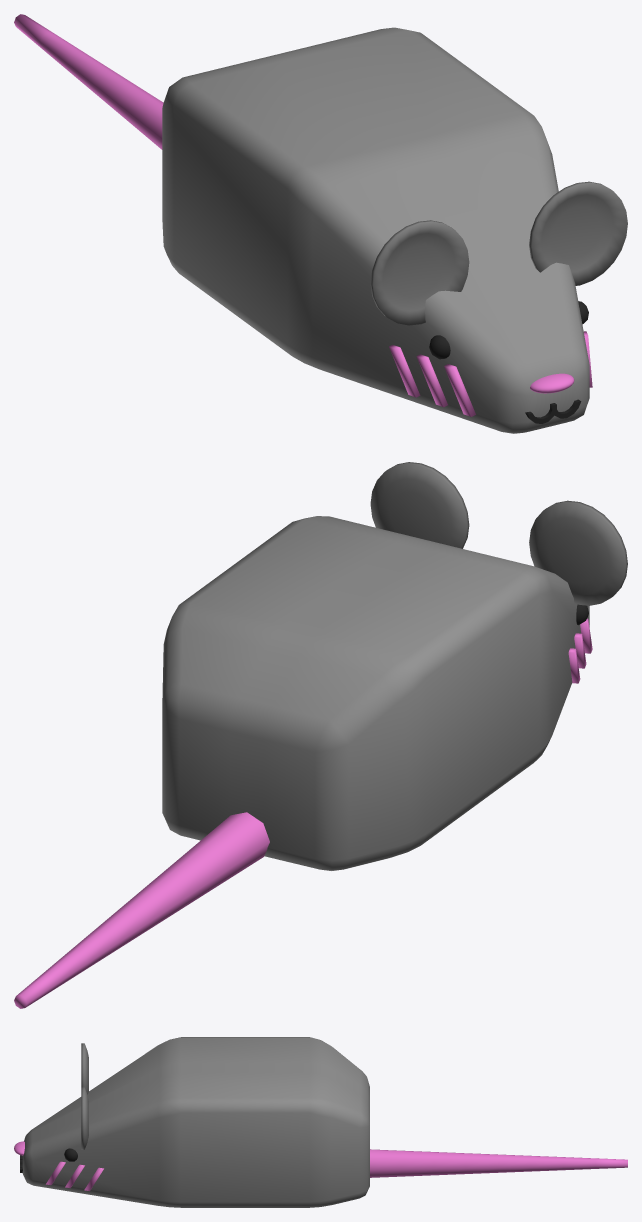
The model's file is lowPolyMouse.fbx.
3 views of the same model, one above another, from view 1: azimuth 30°, elevation 25°; view 2: azimuth 150°, elevation 25°; view 3: azimuth 270°, elevation 25° (orthographic). The views are drawn at different scales.
Visible parts, largest first — view 1: Low Poly Mouse; view 2: Low Poly Mouse; view 3: Low Poly Mouse.
Part boxes in pixels (<box>): Low Poly Mouse: <box>14,14,627,433</box>; Low Poly Mouse: <box>14,462,627,1008</box>; Low Poly Mouse: <box>14,1037,627,1207</box>.
Bounding box in the file's own units: 737 × 2704 × 533.
